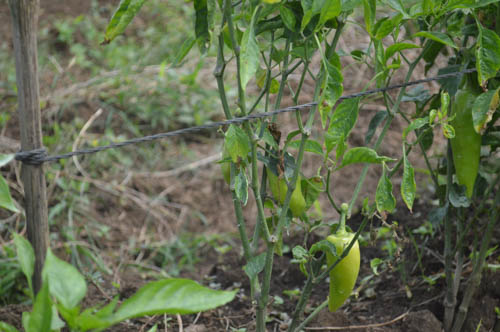ChiliPepper: (447, 92, 479, 200), (326, 236, 361, 315), (270, 170, 306, 213)
